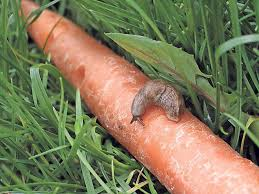slug: (132, 82, 182, 124)
